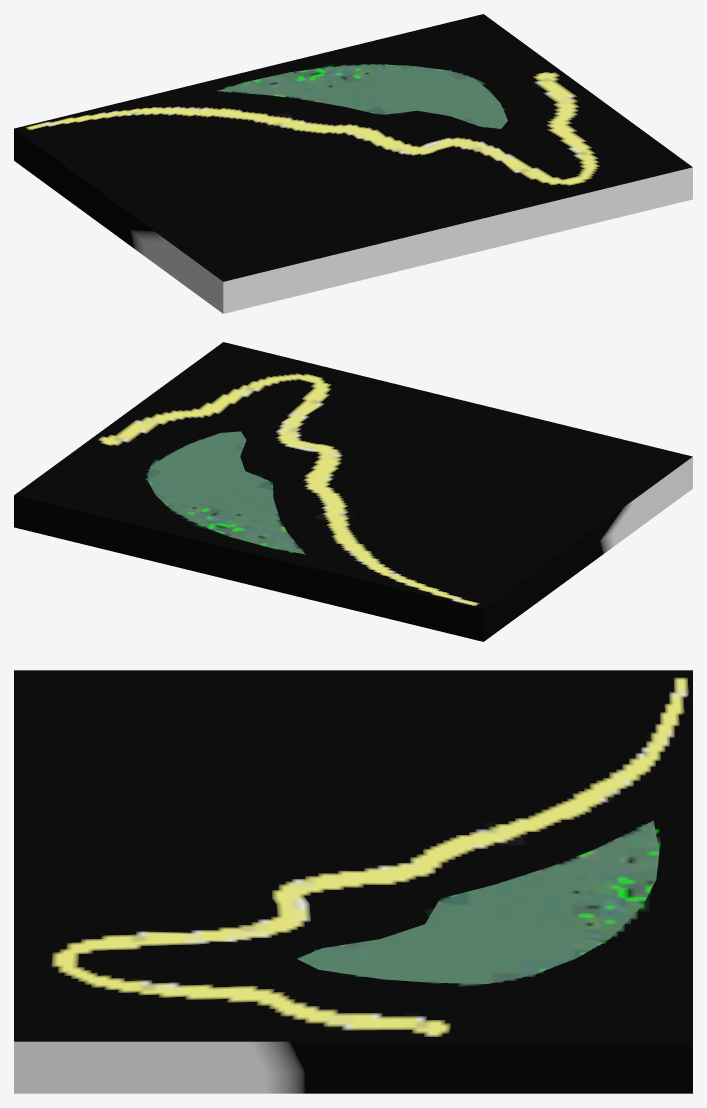
The model's file is CharSkyKid_Prop_MoonlightMural_Mountain01.glb.
3 renders of one model, top to bottom at view 1: azimuth 30°, elevation 25°; view 2: azimuth 150°, elevation 25°; view 3: azimuth 270°, elevation 25°, orthographic. The views are drawn at different scales.
Visible parts, largest first — view 1: CharSkyKid_Prop_MoonlightMural_Mountain01; view 2: CharSkyKid_Prop_MoonlightMural_Mountain01; view 3: CharSkyKid_Prop_MoonlightMural_Mountain01.
Boxes of the visible parts, x1,y1,x2,y2 form: CharSkyKid_Prop_MoonlightMural_Mountain01: (14,14,692,313); CharSkyKid_Prop_MoonlightMural_Mountain01: (14,342,692,641); CharSkyKid_Prop_MoonlightMural_Mountain01: (14,670,692,1093).
Size of the model in its own units: 1 by 0.0654 by 0.7724.
1 material, 1 textured.
